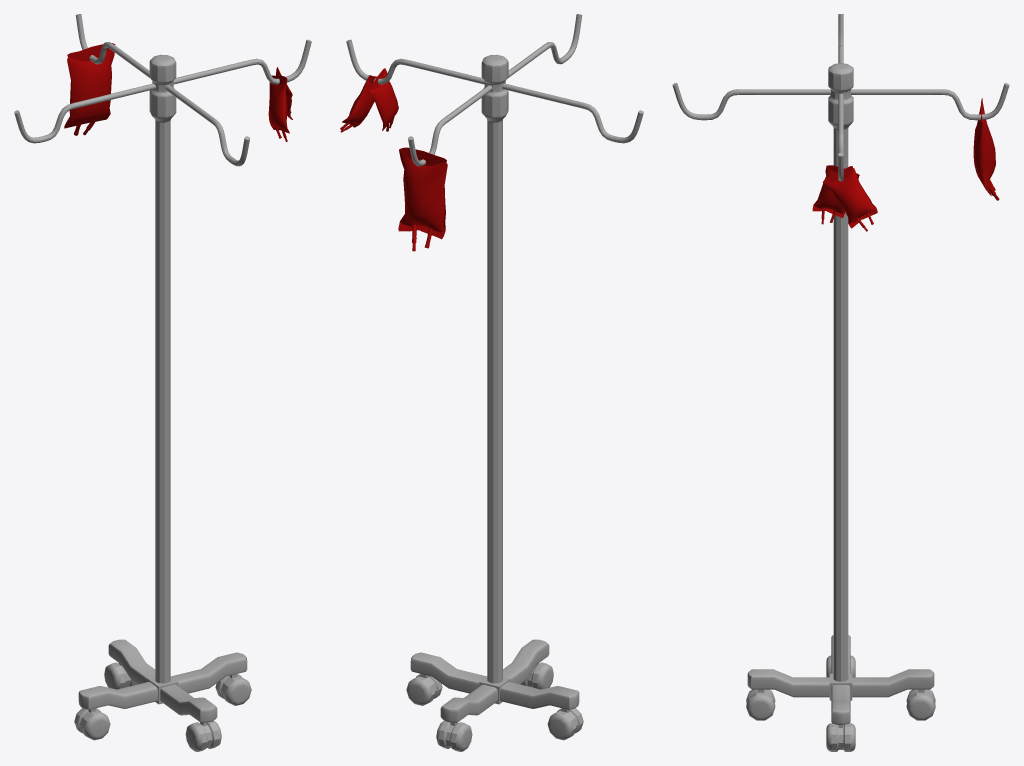
Rendered from poste de soro.fbx.
3 views of the same model, side by side, from view 1: azimuth 30°, elevation 25°; view 2: azimuth 150°, elevation 25°; view 3: azimuth 270°, elevation 25° (orthographic).
Parts seen in each view (by area): view 1: polySurface100, WaterBag; view 2: polySurface100, WaterBag; view 3: polySurface100, WaterBag.
Boxes of the visible parts, x1,y1,x2,y2 form: polySurface100: (14, 14, 311, 751); WaterBag: (64, 43, 292, 141); polySurface100: (346, 14, 643, 751); WaterBag: (340, 68, 447, 251); polySurface100: (672, 14, 1009, 751); WaterBag: (812, 98, 999, 231).
Bounding box in the file's own units: 0.8298 × 1.76 × 0.8298.
